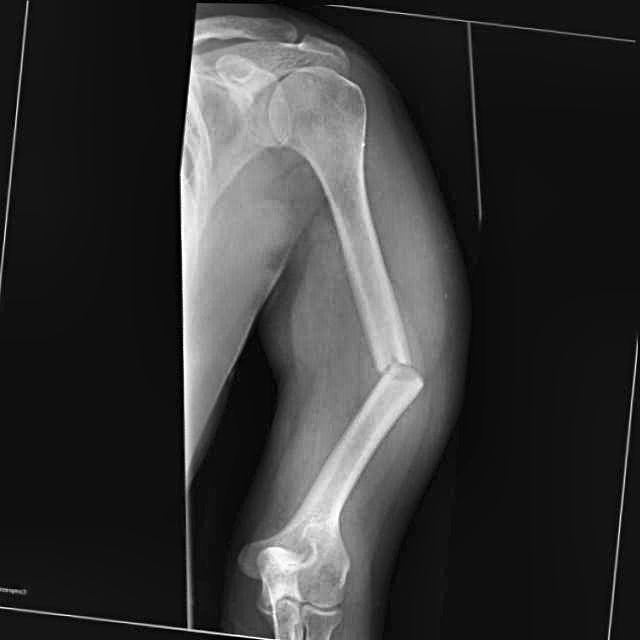Transverse: (360, 329, 440, 414)
